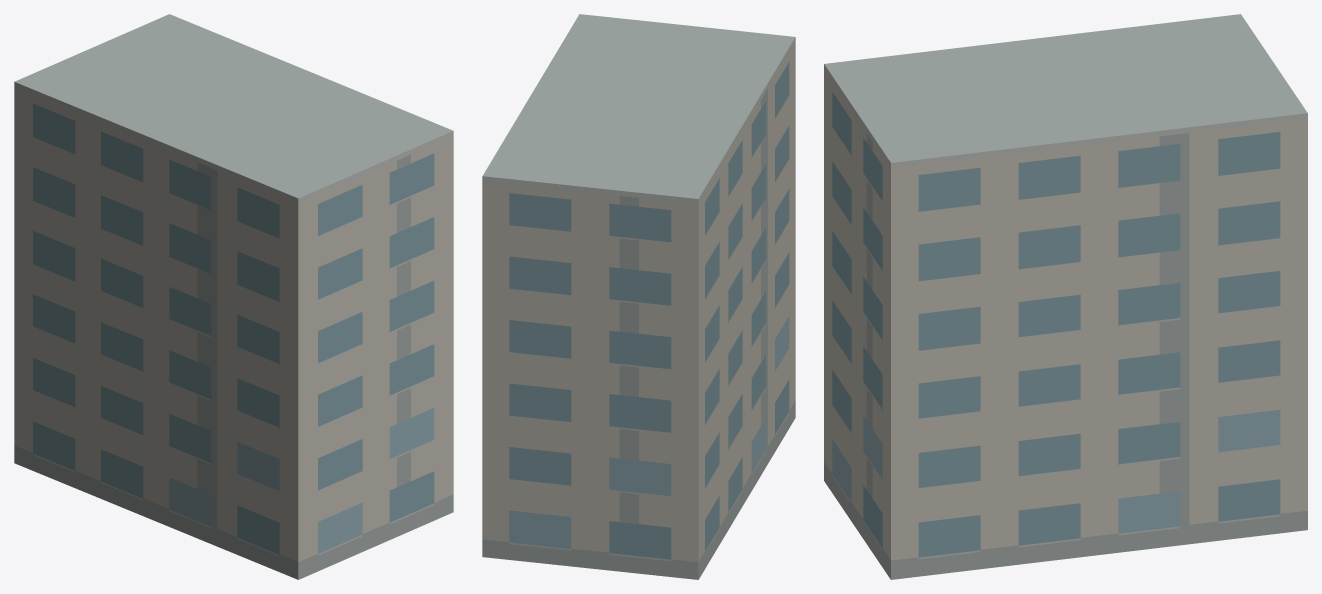
Rendered from survey-upis-32990466.glb.
3 renders of one model, left to right at view 1: azimuth 30°, elevation 25°; view 2: azimuth 150°, elevation 25°; view 3: azimuth 270°, elevation 25°, orthographic. The views are drawn at different scales.
Parts seen in each view (by area): view 1: survey-upis-32990466.tmp; view 2: survey-upis-32990466.tmp; view 3: survey-upis-32990466.tmp.
Part boxes in pixels (x1=…): survey-upis-32990466.tmp: x1=14, y1=14, x2=453, y2=579; survey-upis-32990466.tmp: x1=482, y1=14, x2=795, y2=579; survey-upis-32990466.tmp: x1=824, y1=14, x2=1307, y2=579.
Size of the model in its own units: 13.7 by 17.87 by 18.8.
